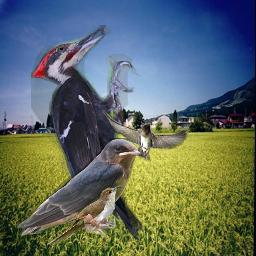Cuckoo: (46, 185, 121, 245)
Swallow: (16, 138, 142, 240), (102, 110, 189, 162)
Woodpecker: (31, 25, 144, 242)
